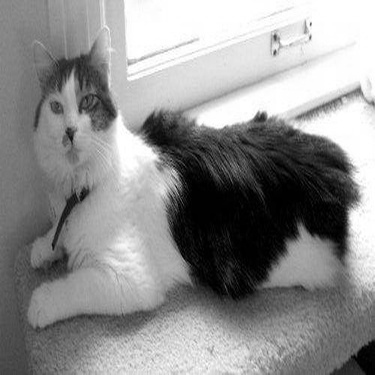cat: (7, 35, 364, 320)
